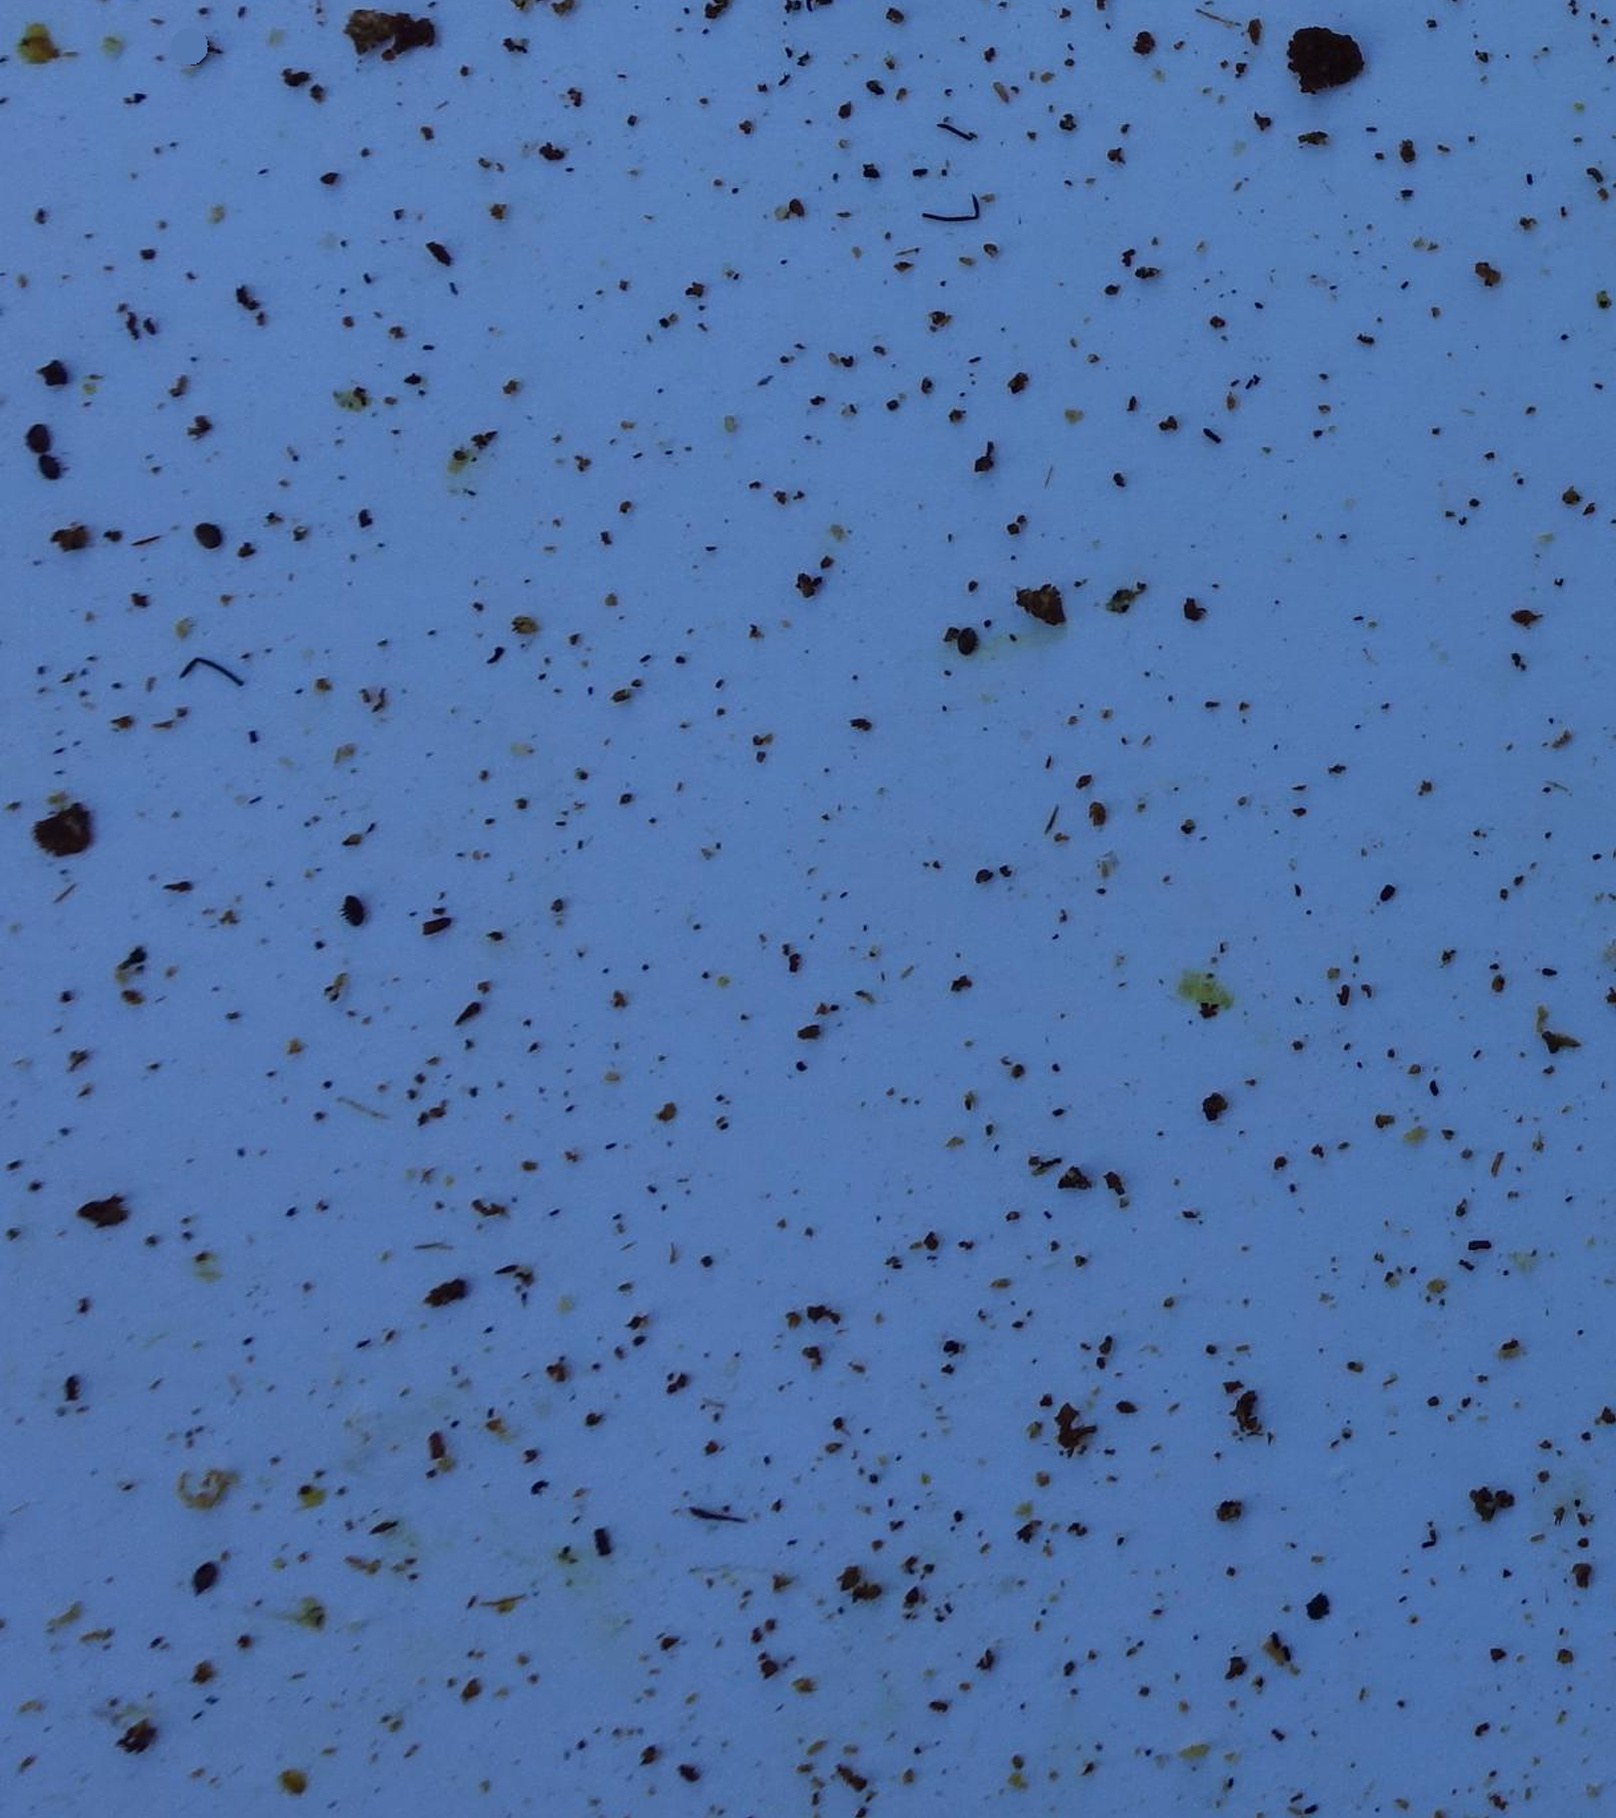Varroa: (189, 513, 231, 557), (331, 890, 373, 932), (34, 447, 66, 480), (28, 429, 55, 462), (955, 628, 980, 653)
